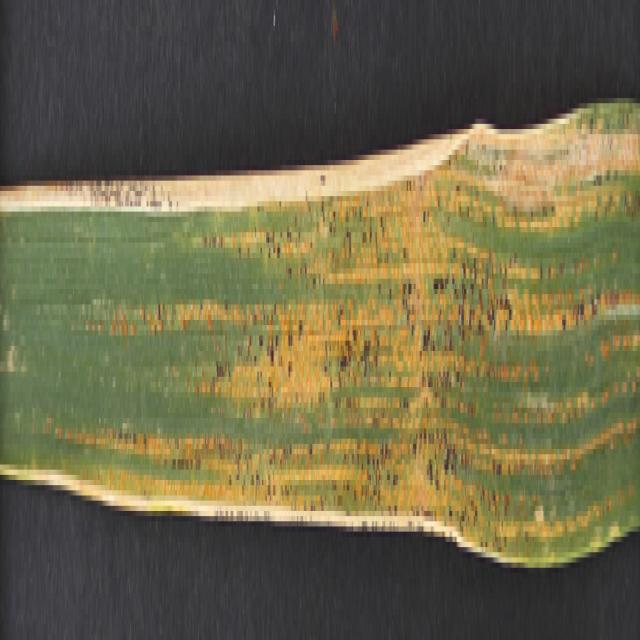leaf rust: (49, 129, 638, 547)
